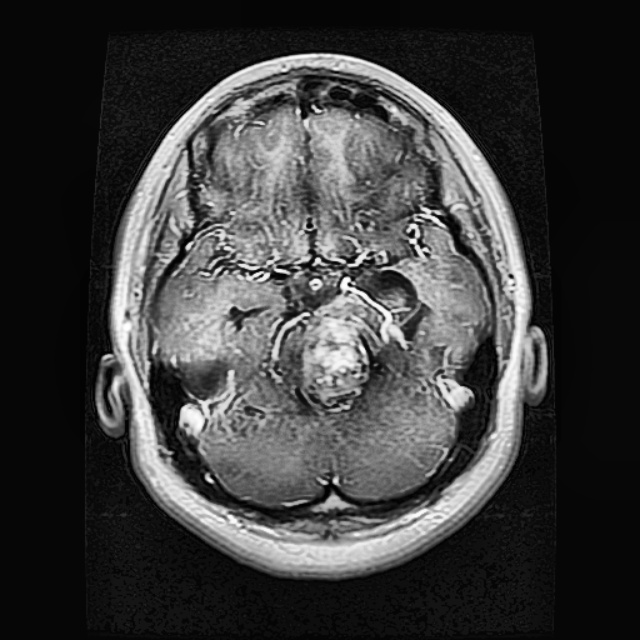Glioma: (300, 309, 367, 393)
